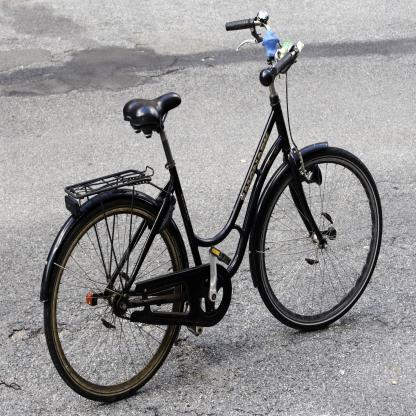Bike: (10, 15, 390, 400)
